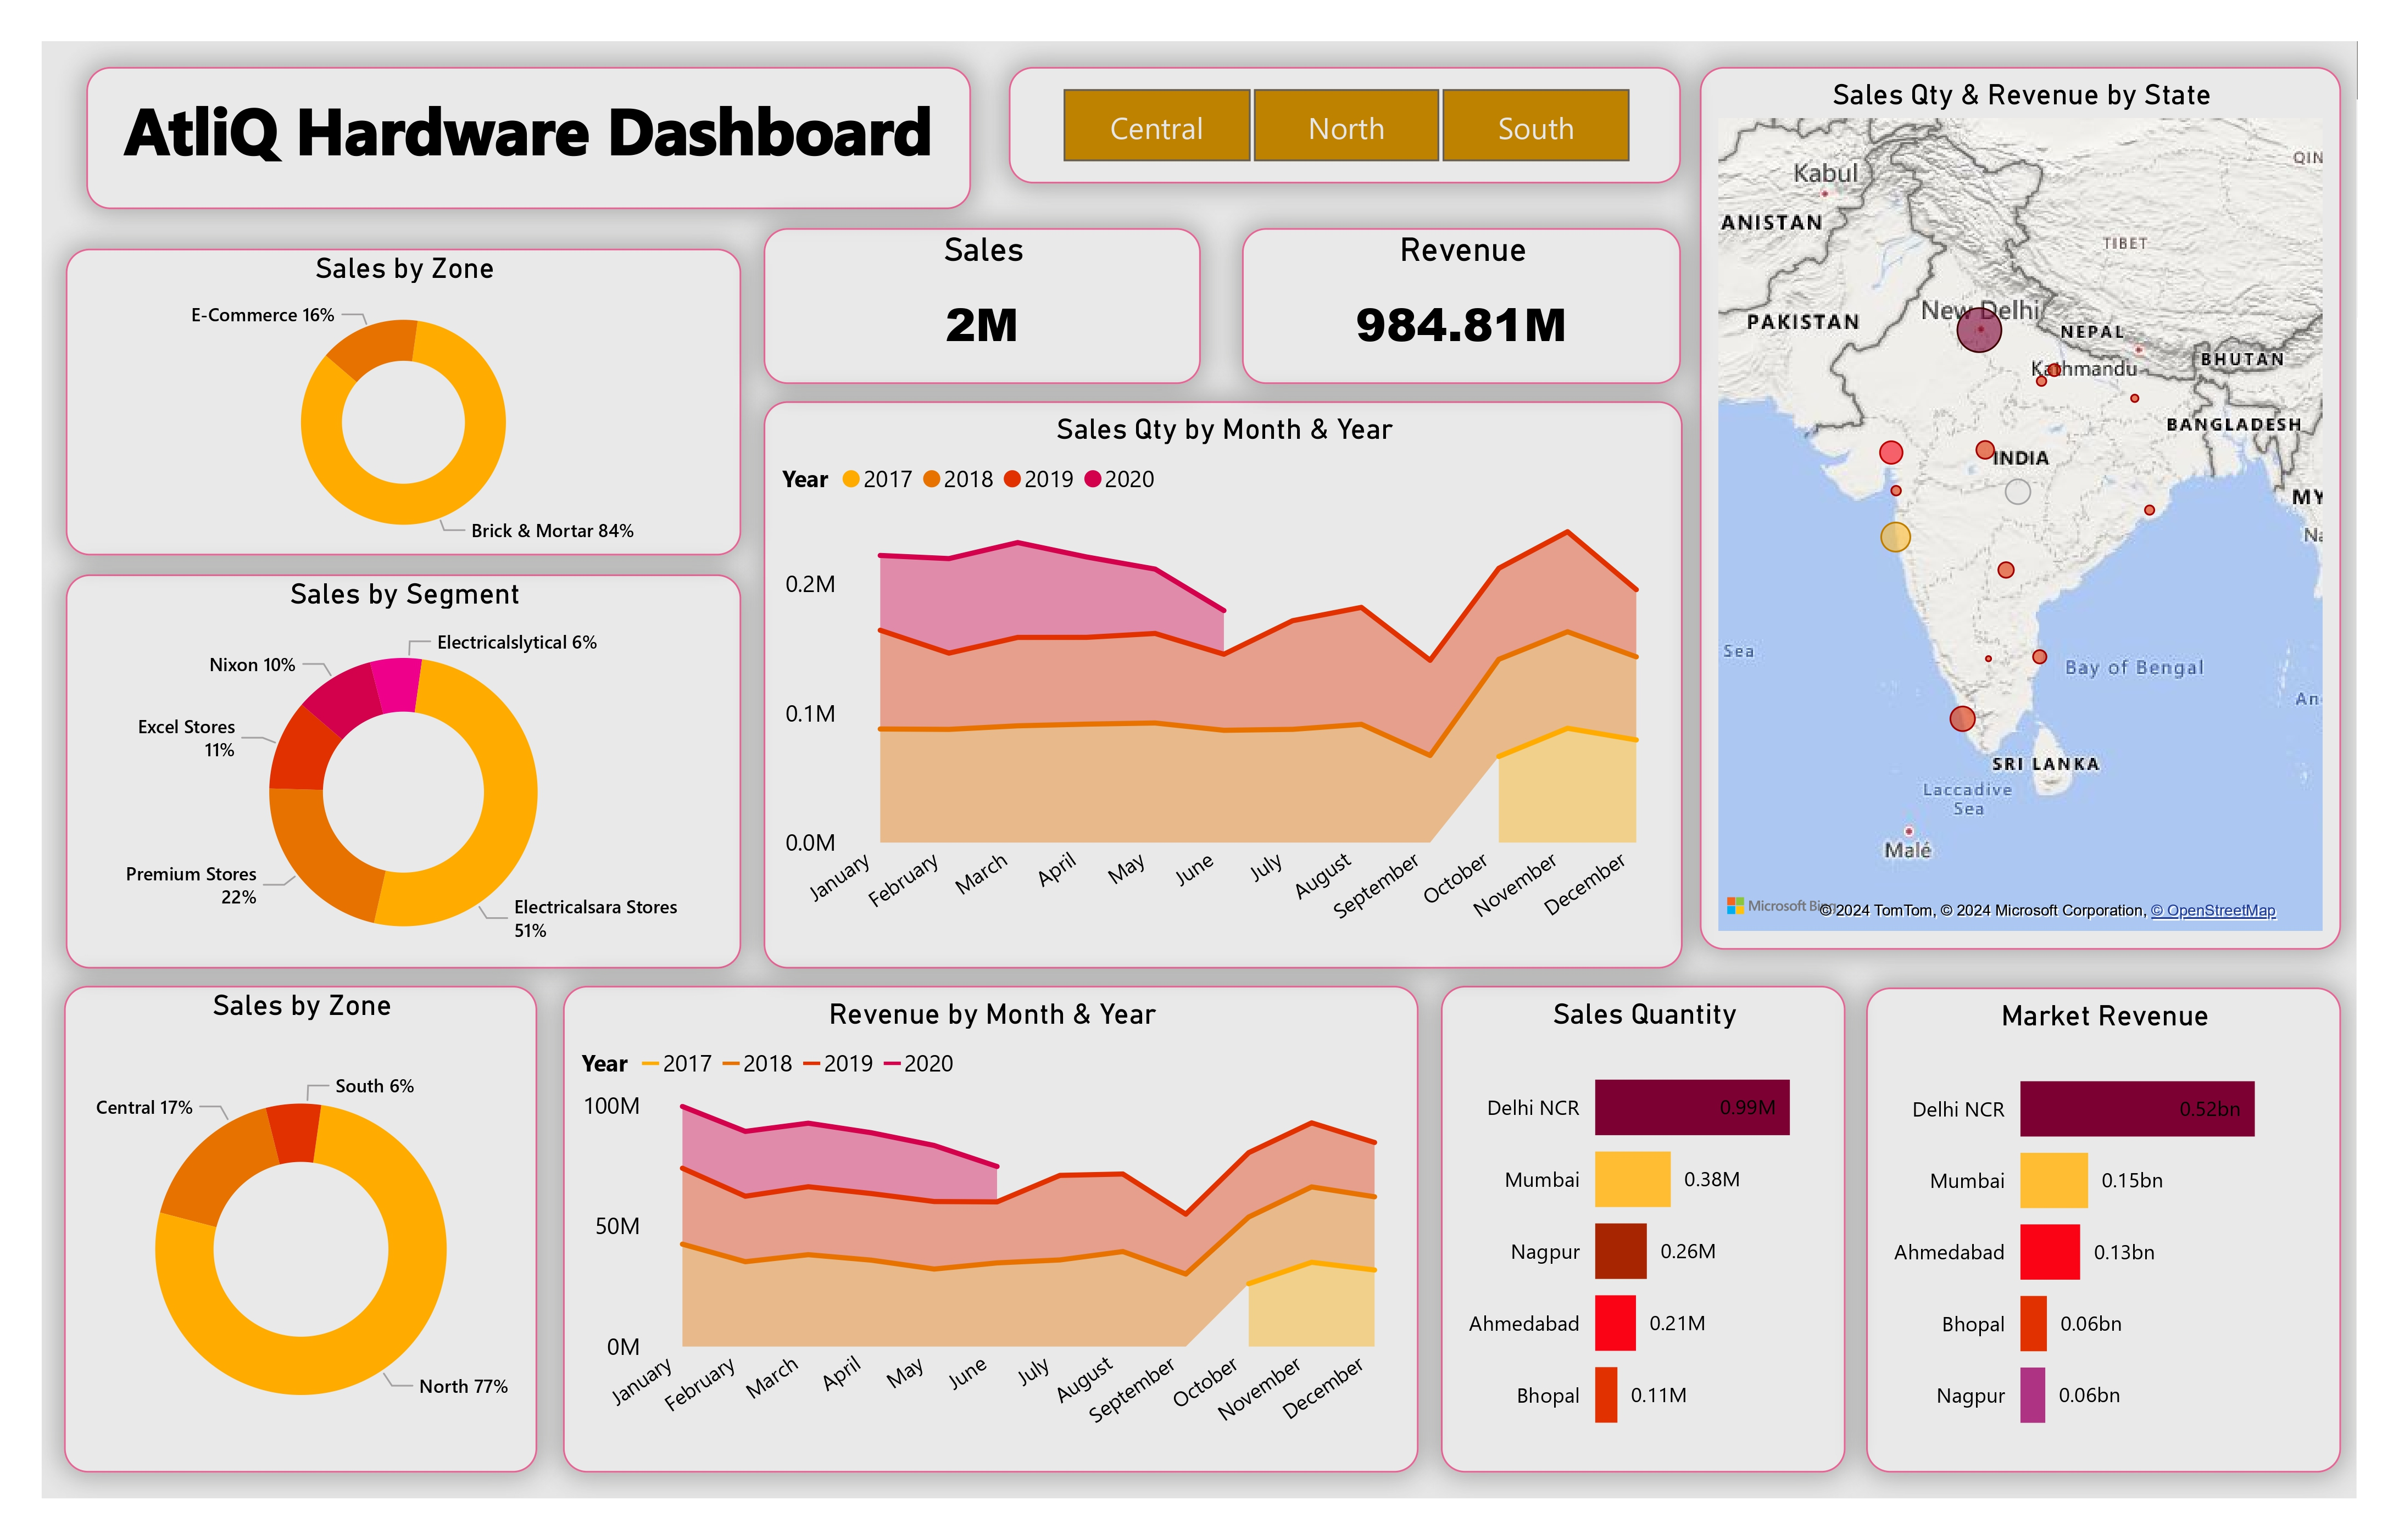

What the dashboard file says about the page in this screenshot:
{"tool":"powerbi","page":{"name":"Page 1","canvas":[1350,850],"ordinal":0},"visuals":[{"type":"barChart","title":"Market Revenue","fields":{"Category":["sales markets.markets_name"],"Y":["BaseMeasures.Revenue"]},"box":[1063.6,551.5,277.3,283.3],"z":0},{"type":"donutChart","title":"Sales by Segment","fields":{"Category":["sales customers.custmer_name"],"Y":["BaseMeasures.Sales Qty"]},"box":[13.6,310.6,393.9,230.3],"z":1000},{"type":"barChart","title":"Sales Quantity","fields":{"Category":["sales markets.markets_name"],"Y":["BaseMeasures.Sales Qty"]},"box":[816.3,551.4,235.9,283.7],"z":2000},{"type":"stackedAreaChart","title":"Sales Qty by Month & Year","fields":{"Category":["sales date.date.Variation.Date Hierarchy.Month","sales date.date.Variation.Date Hierarchy.Day"],"Y":["BaseMeasures.Sales Qty"],"Series":["sales date.cy_date.Variation.Date Hierarchy.Year"]},"box":[421.2,209.9,535.5,331.4],"z":3000},{"type":"stackedAreaChart","title":"Revenue by Month & Year","fields":{"Category":["sales date.date.Variation.Date Hierarchy.Month","sales date.date.Variation.Date Hierarchy.Day"],"Y":["BaseMeasures.Revenue"],"Series":["sales date.cy_date.Variation.Date Hierarchy.Year"]},"box":[303.9,551.4,499.3,283.7],"z":4000},{"type":"map","title":"Sales Qty & Revenue by State","fields":{"Category":["sales markets.markets_name"],"Size":["BaseMeasures.Sales Qty"]},"box":[966.7,15.2,374.2,515.2],"z":5000},{"type":"donutChart","title":"Sales by Zone","fields":{"Category":["sales markets.zone"],"Y":["BaseMeasures.Sales Qty"]},"box":[13,551.4,276.4,283.7],"z":6000},{"type":"donutChart","title":"Sales by Zone","fields":{"Category":["sales customers.customer_type"],"Y":["BaseMeasures.Sales Qty"]},"box":[13.6,121.2,393.9,178.8],"z":7000},{"type":"slicer","fields":{"Values":["sales markets.zone"]},"box":[563.6,15.2,392.4,68.2],"z":8000},{"type":"textbox","box":[25.8,15.2,516.7,83.3],"z":9000},{"type":"card","title":"Sales","fields":{"Values":["BaseMeasures.Sales Qty"]},"box":[421.2,109.1,254.5,90.9],"z":10000},{"type":"card","title":"Revenue","fields":{"Values":["BaseMeasures.Revenue"]},"box":[700,109.1,256.1,90.9],"z":11000}]}

Visuals, with their boxes on the page's 1350x850 design canvas (x1, y1, x2, y2). These are canvas units, not pixel positions in the 2399x1540 screenshot, which may show the page scaled, cropped or inside an application window:
"Market Revenue" barChart: [1064, 552, 1341, 835]
"Sales by Segment" donutChart: [14, 311, 408, 541]
"Sales Quantity" barChart: [816, 551, 1052, 835]
"Sales Qty by Month & Year" stackedAreaChart: [421, 210, 957, 541]
"Revenue by Month & Year" stackedAreaChart: [304, 551, 803, 835]
"Sales Qty & Revenue by State" map: [967, 15, 1341, 530]
"Sales by Zone" donutChart: [13, 551, 289, 835]
"Sales by Zone" donutChart: [14, 121, 408, 300]
slicer - sales markets.zone: [564, 15, 956, 83]
textbox: [26, 15, 542, 98]
"Sales" card: [421, 109, 676, 200]
"Revenue" card: [700, 109, 956, 200]
